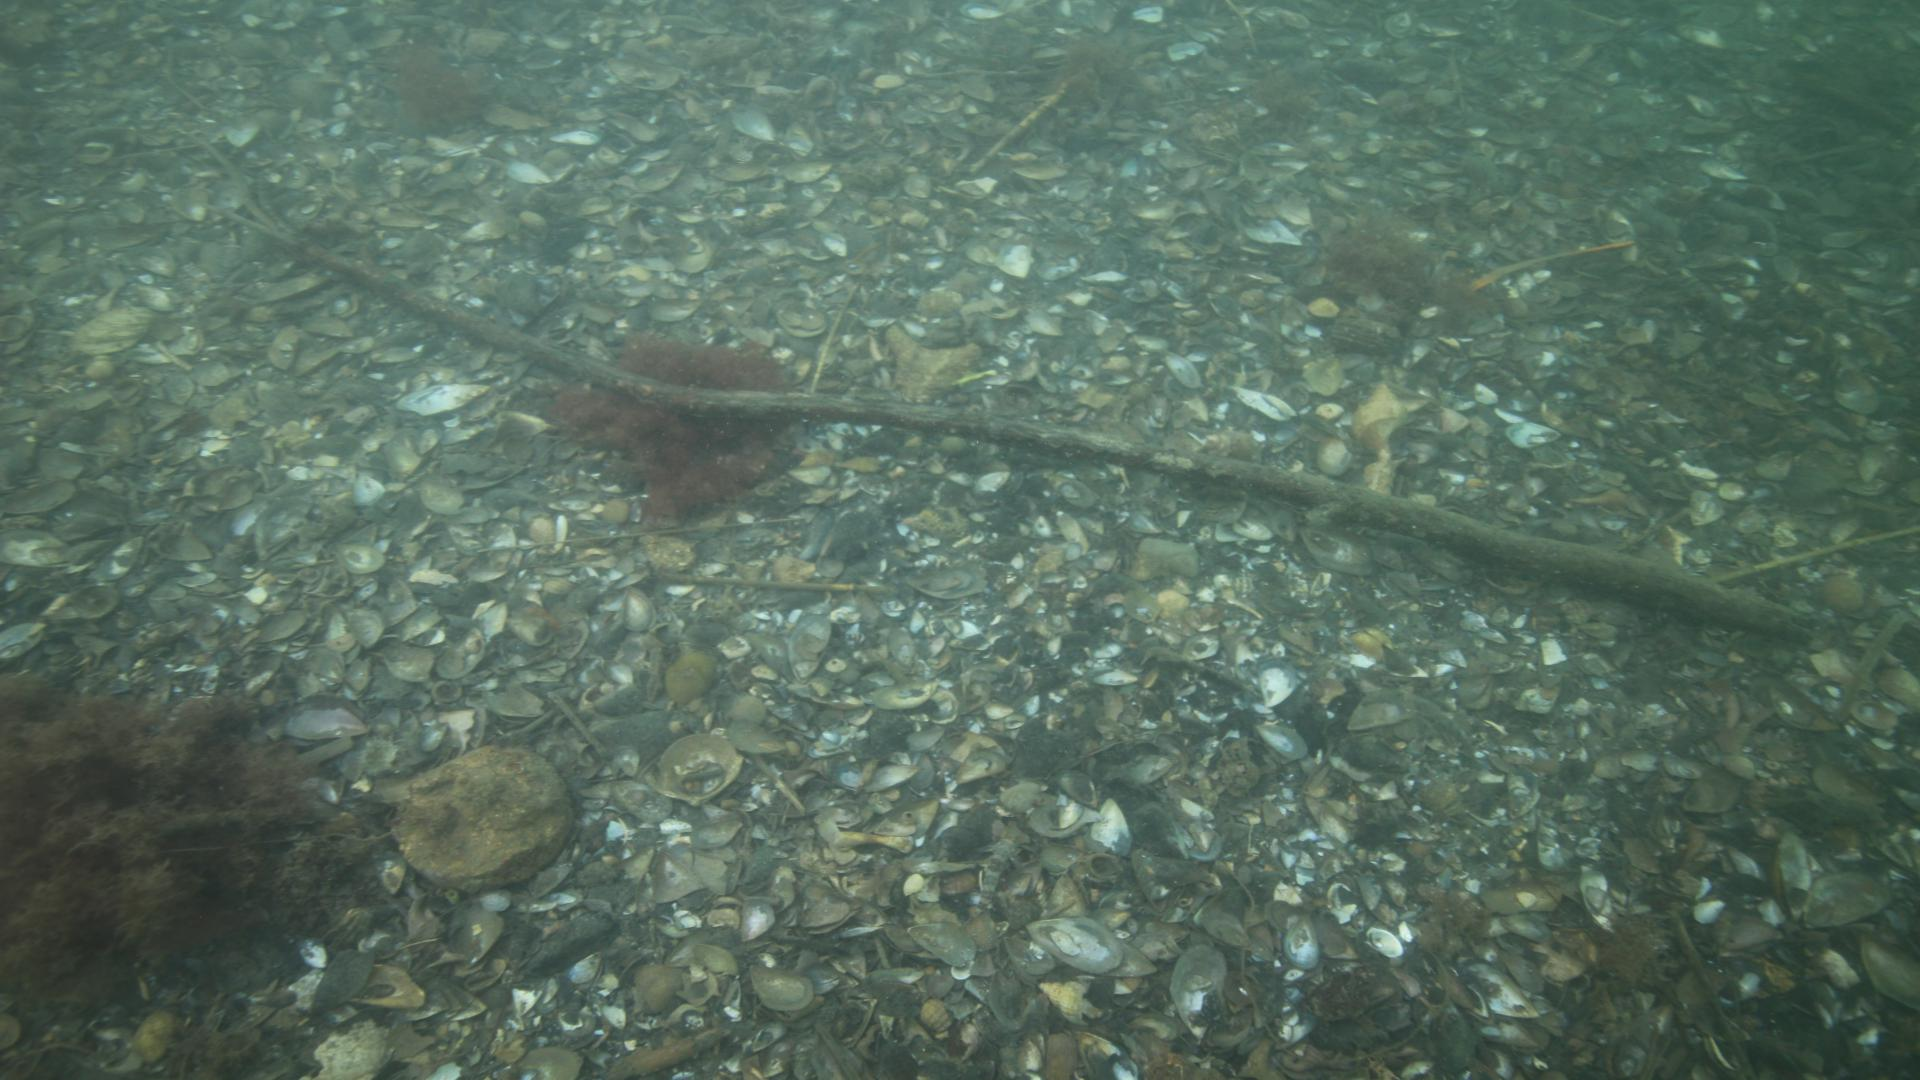wood: (307, 244, 1804, 628)
